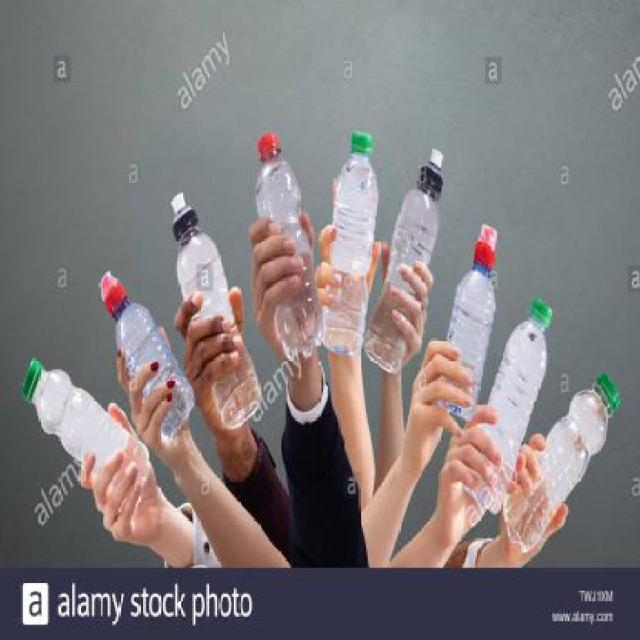Drinking: (158, 175, 273, 434), (20, 340, 151, 509), (521, 378, 617, 559), (319, 114, 381, 380), (441, 228, 499, 424)
